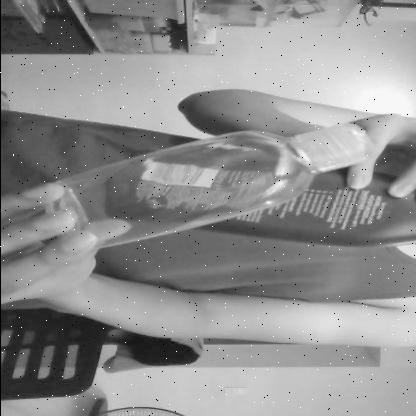Plastic Bottle: (18, 119, 380, 253)
